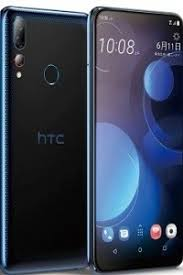htc: (89, 3, 183, 275), (1, 5, 88, 272)
